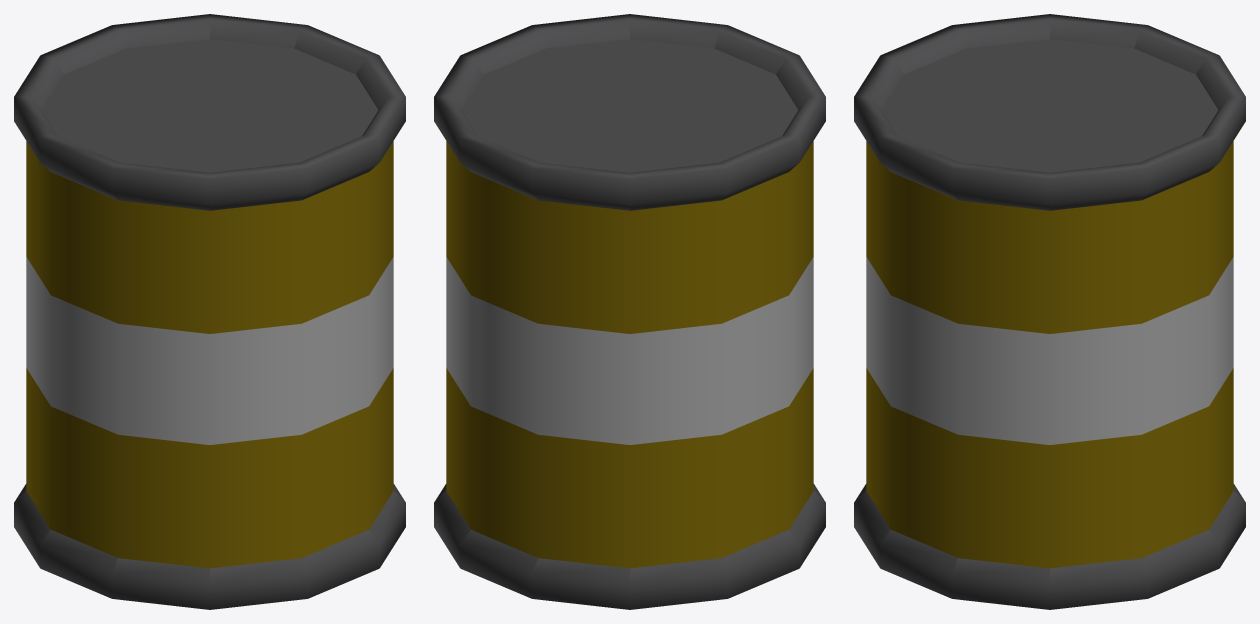
File: Barrel.fbx
3 renders of one model, left to right at view 1: azimuth 30°, elevation 25°; view 2: azimuth 150°, elevation 25°; view 3: azimuth 270°, elevation 25°, orthographic.
Parts seen in each view (by area): view 1: Barrel; view 2: Barrel; view 3: Barrel.
Boxes of the visible parts, x1=… form: Barrel: x1=14, y1=14, x2=405, y2=609; Barrel: x1=434, y1=14, x2=825, y2=609; Barrel: x1=854, y1=14, x2=1245, y2=609.
Size of the model in its own units: 1.77 by 2.15 by 1.77.
